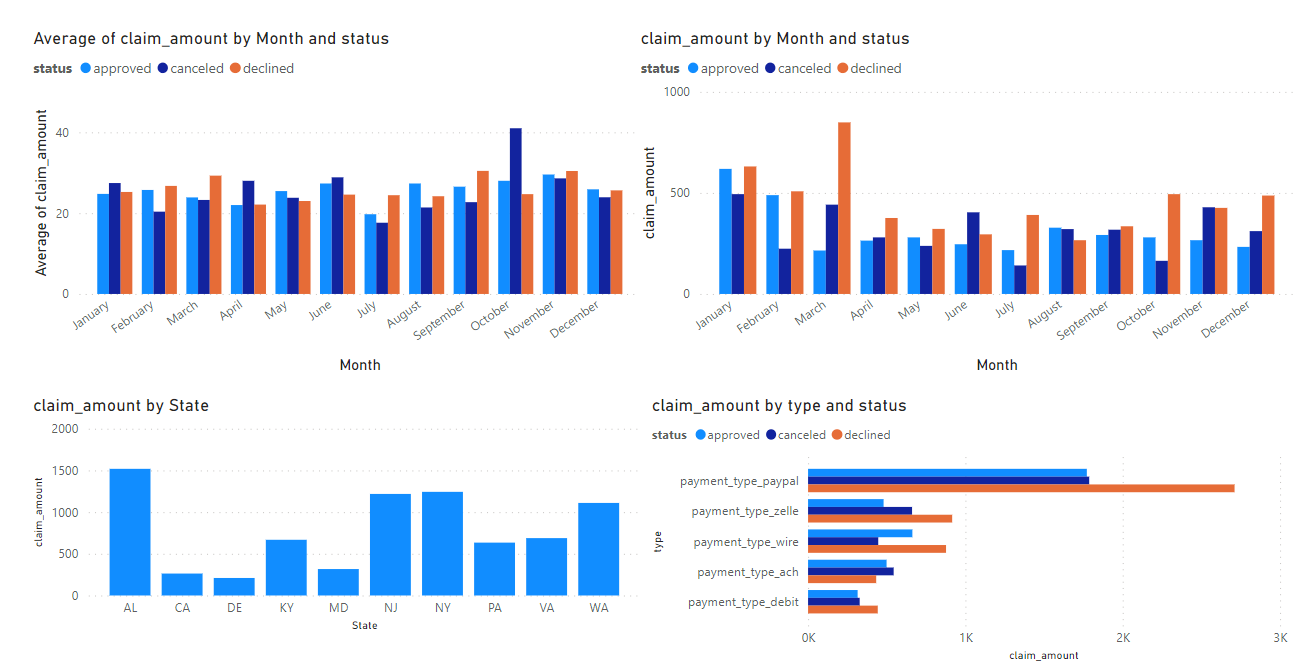

What the dashboard file says about the page in this screenshot:
{"tool":"powerbi","page":{"name":"Page 1","canvas":[1280,720],"ordinal":0},"visuals":[{"type":"clusteredColumnChart","fields":{"Category":["Payment type distribution.type","Payment type distribution.created_at.Variation.Date Hierarchy.Month"],"Series":["Payment type distribution.status"],"Y":["Avg(Payment type distribution.claim_amount)"]},"box":[43.9,34.3,596.1,339.2],"z":0},{"type":"clusteredColumnChart","fields":{"Category":["Payment type distribution.type","Payment type distribution.created_at.Variation.Date Hierarchy.Month"],"Series":["Payment type distribution.status"],"Y":["Sum(Payment type distribution.claim_amount)"]},"box":[629,34.3,640,339.2],"z":1000},{"type":"columnChart","fields":{"Category":["Payment type distribution.State","Payment type distribution.created_at.Variation.Date Hierarchy.Month"],"Y":["Sum(Payment type distribution.claim_amount)"]},"box":[43.9,388.7,596.1,233.5],"z":2000},{"type":"clusteredBarChart","fields":{"Category":["Payment type distribution.type"],"Y":["Sum(Payment type distribution.claim_amount)"],"Series":["Payment type distribution.status"]},"box":[640,388.7,629,262.3],"z":2001}]}

Visuals, with their boxes on the page's 1280x720 design canvas (x1, y1, x2, y2). These are canvas units, not pixel positions in the 1303x668 screenshot, which may show the page scaled, cropped or inside an application window:
clusteredColumnChart - Payment type distribution.type x Payment type distribution.created_at.Variation.Date Hierarchy.Month: 44:34:640:374
clusteredColumnChart - Payment type distribution.type x Payment type distribution.created_at.Variation.Date Hierarchy.Month: 629:34:1269:374
columnChart - Payment type distribution.State x Payment type distribution.created_at.Variation.Date Hierarchy.Month: 44:389:640:622
clusteredBarChart - Payment type distribution.type x Sum(Payment type distribution.claim_amount): 640:389:1269:651
